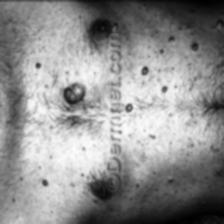Unclassified: (61, 78, 90, 103), (134, 63, 150, 76)
